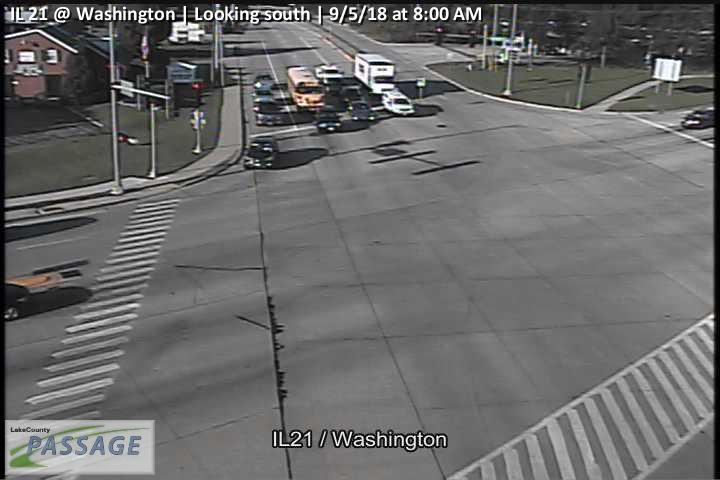Bus: (286, 66, 326, 113)
SUV: (242, 136, 279, 169), (252, 89, 283, 126), (381, 90, 415, 116), (312, 105, 342, 132), (682, 107, 713, 129), (253, 73, 277, 92)
Sedan: (348, 102, 376, 121)
Truck: (352, 53, 396, 98)
